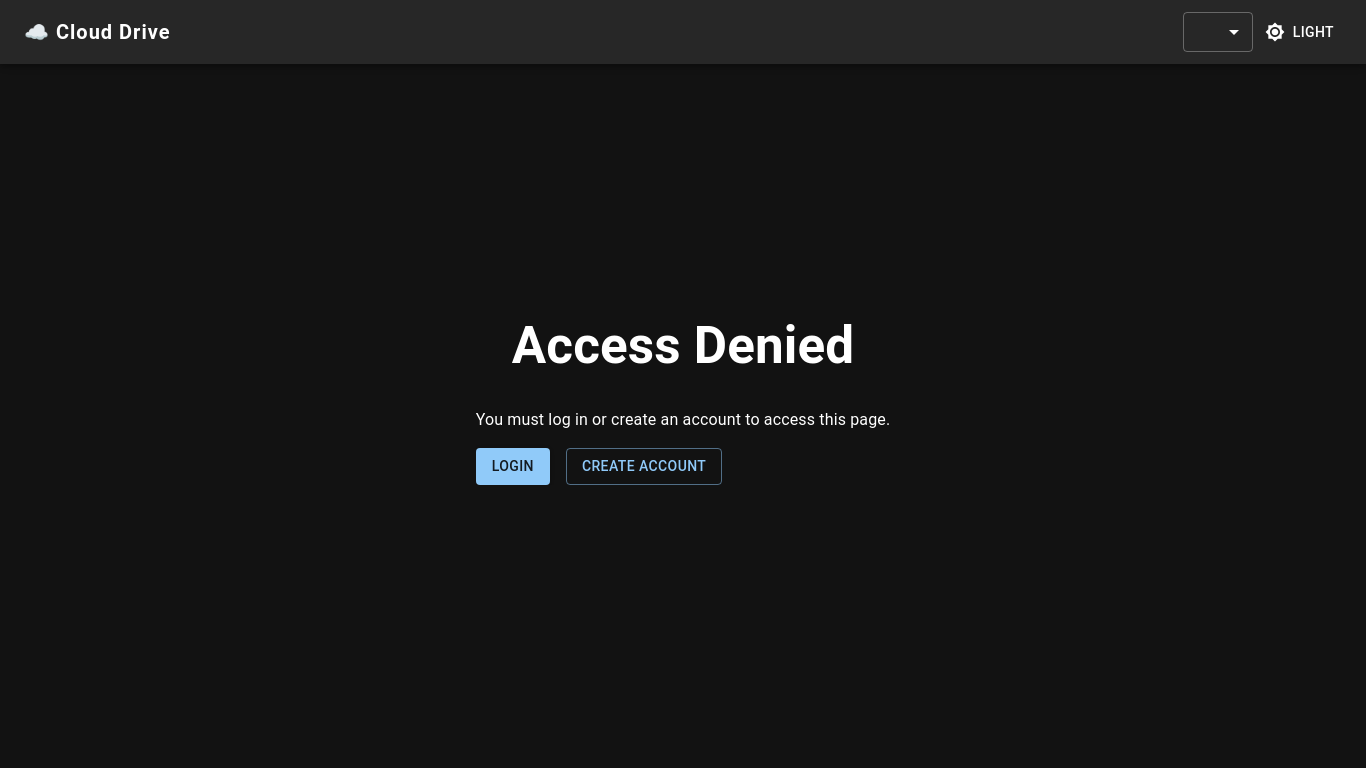
Protected Route - blocks unauthenticated users › navigates to login page when clicking "Login" on Access Denied
This screenshot has width=1366, height=768.
// Click the Login button on the protected route's Access Denied screen
Click the button "Login": (513, 466) top-left (476, 448), bottom-right (550, 485)
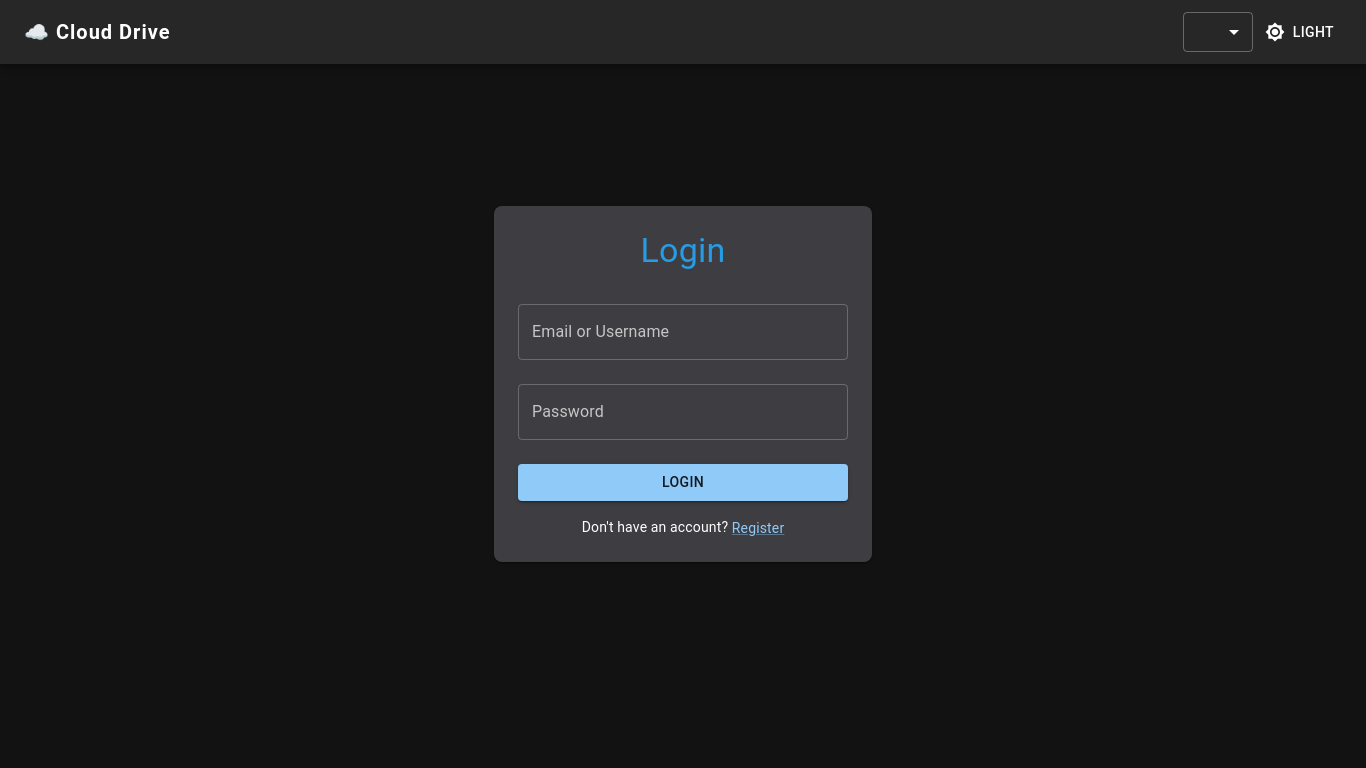
Expected: the heading "Login" is shown, top-left (640, 230), bottom-right (726, 270)
Expected: the field labelled "Email or Username" is shown, top-left (518, 304), bottom-right (848, 360)
